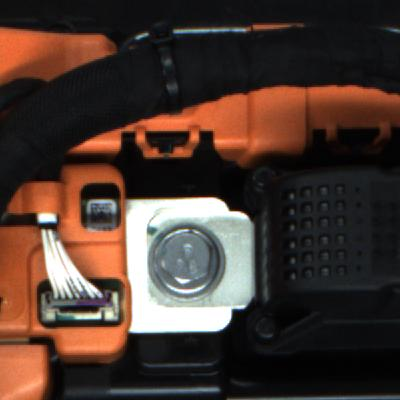nut_b: (140, 216, 237, 308)
